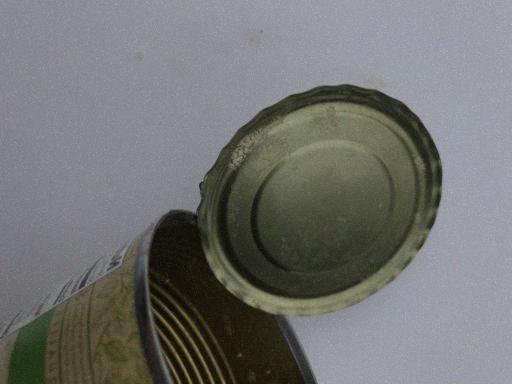metal: (0, 81, 485, 382)
